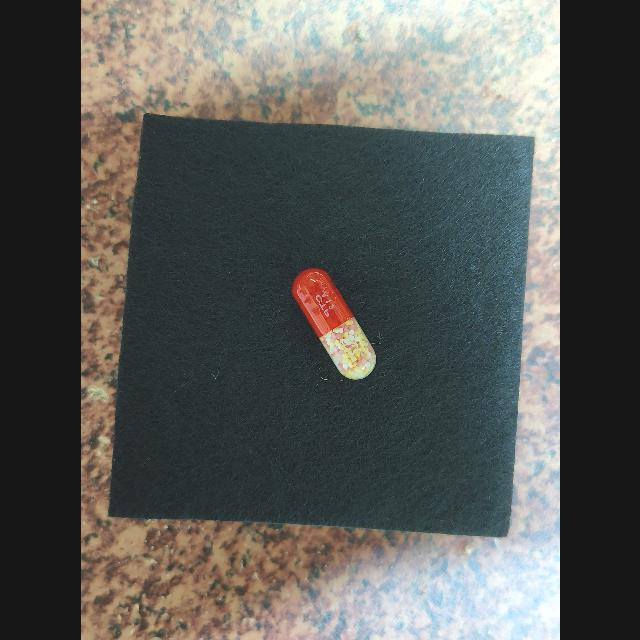Intact Capsule: (291, 268, 376, 380)
